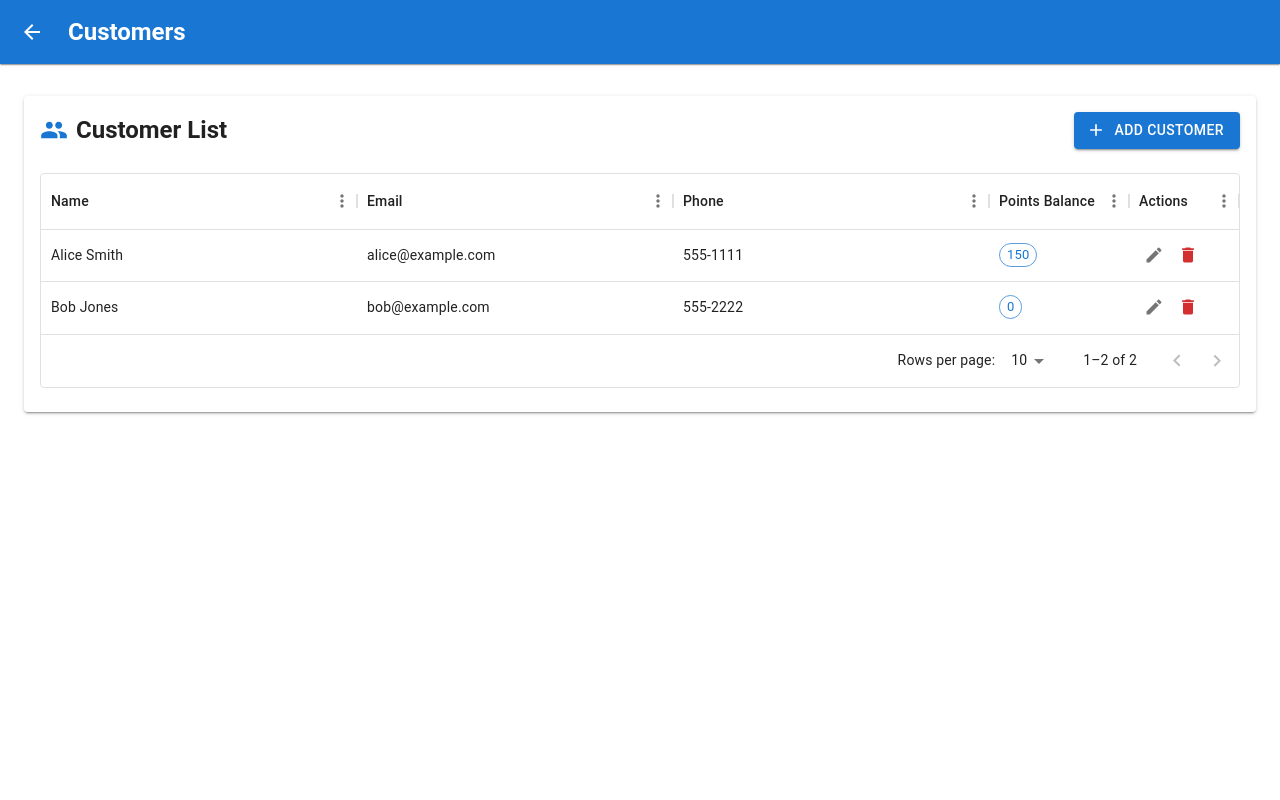
Test case: CustomersPage › Add Customer dialog › closes dialog when Cancel is clicked
The image size is (1280, 800).
What coordinates should you click on to do the following:
click the button "Add Customer"
I would click on:
 (1157, 130)
Its box is left=1074, top=112, right=1240, bottom=148.
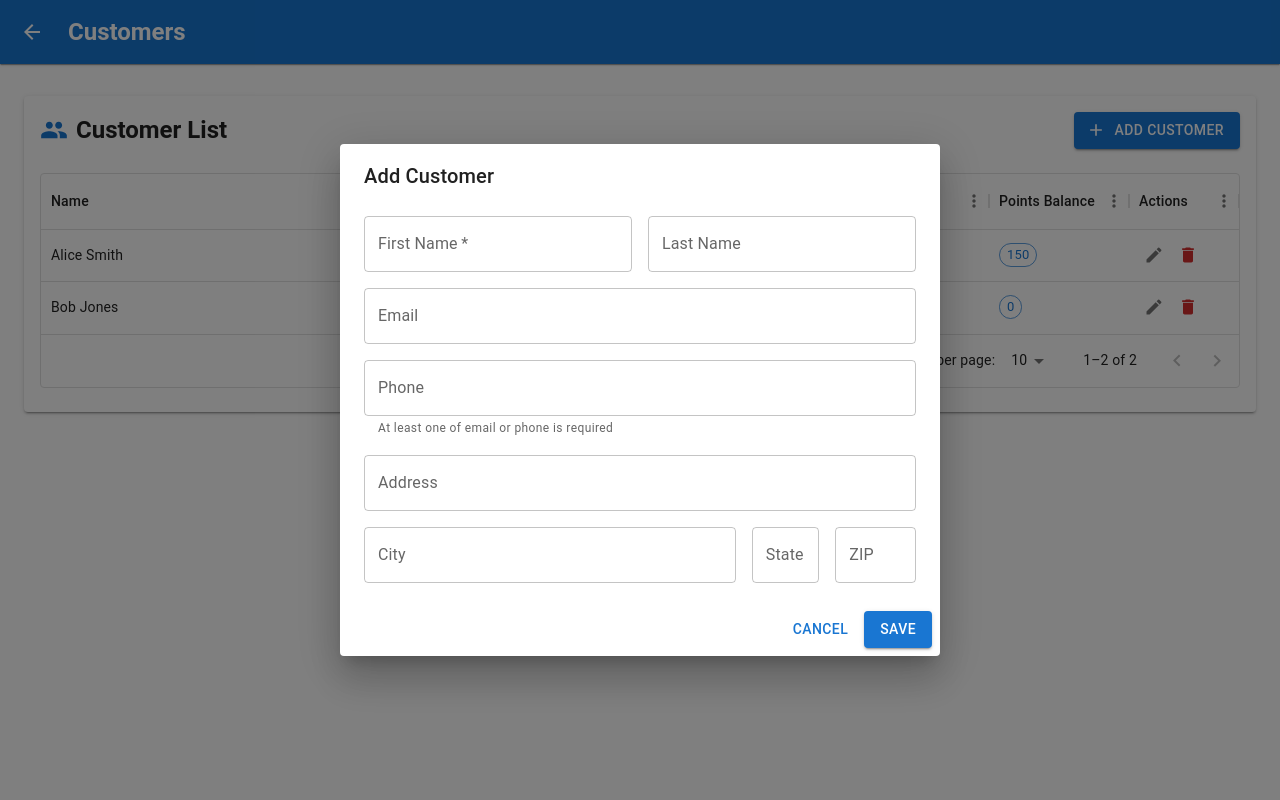
Expected: the dialog is shown, left=340, top=144, right=940, bottom=656
What coordinates should you click on to do the following:
click the button "Cancel"
I would click on:
 (820, 629)
Its box is left=785, top=611, right=856, bottom=648.
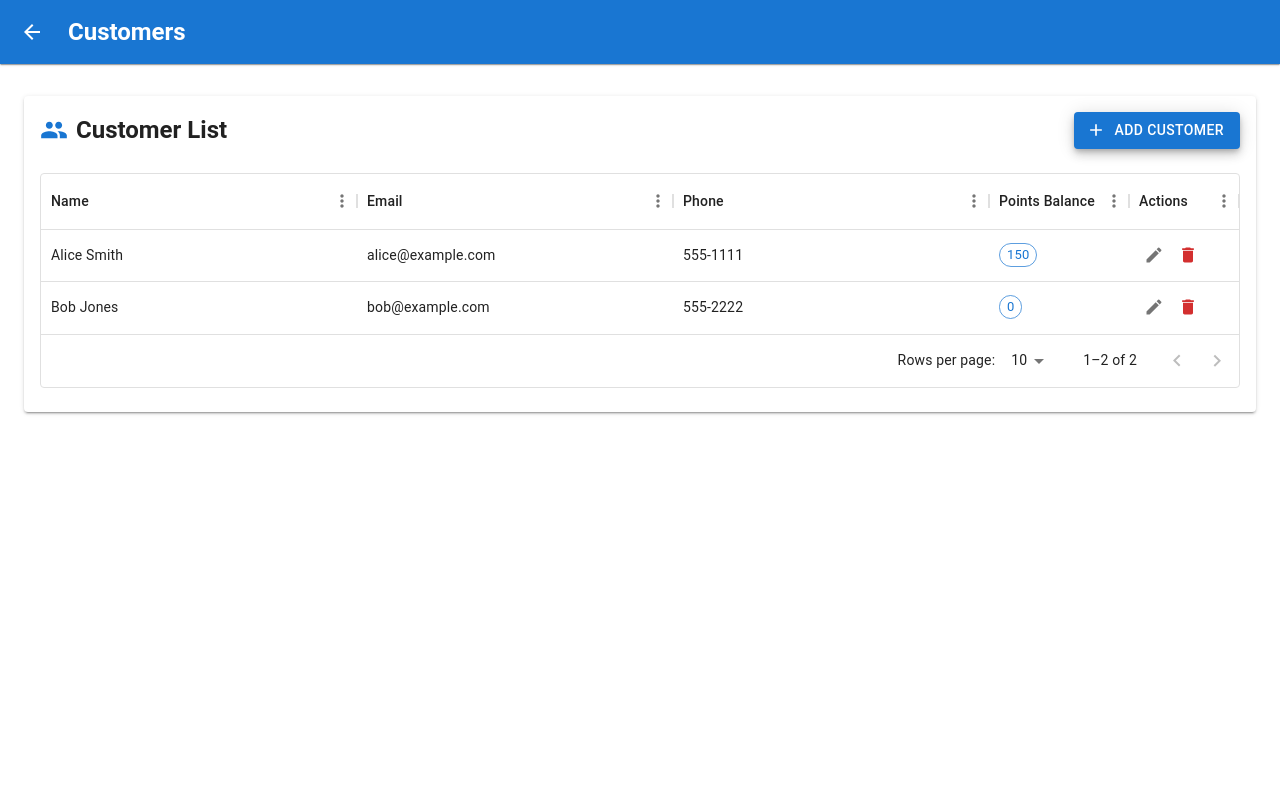
Expected: the dialog is gone
